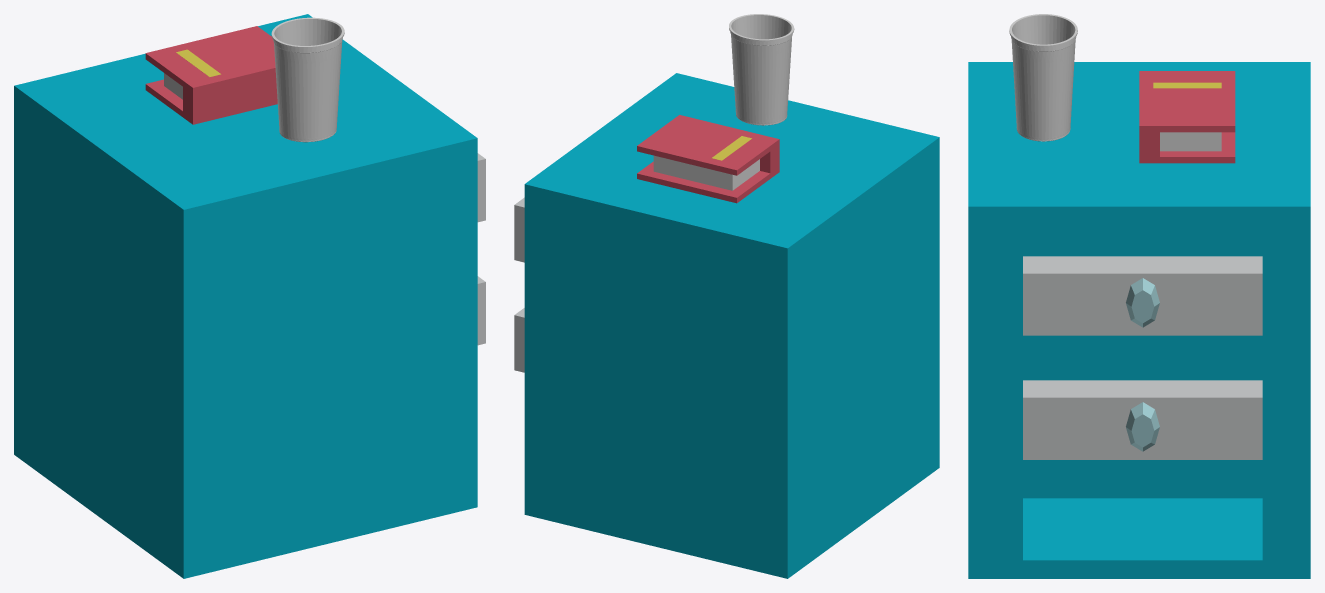
File: Glorious Blad.glb
The picture shows the model from 3 angles, left to right: view 1: azimuth 30°, elevation 25°; view 2: azimuth 150°, elevation 25°; view 3: azimuth 270°, elevation 25°; orthographic projection. The views are drawn at different scales.
Visible parts, largest first — view 1: Mesh_Mesh_head_geo.001_lambert2SG.001; view 2: Mesh_Mesh_head_geo.001_lambert2SG.001; view 3: Mesh_Mesh_head_geo.001_lambert2SG.001.
Boxes of the visible parts, x1,y1,x2,y2 form: Mesh_Mesh_head_geo.001_lambert2SG.001: (14,14,485,578); Mesh_Mesh_head_geo.001_lambert2SG.001: (514,14,939,578); Mesh_Mesh_head_geo.001_lambert2SG.001: (968,14,1310,578).
Bounding box in the file's own units: 59 × 78 × 50.
